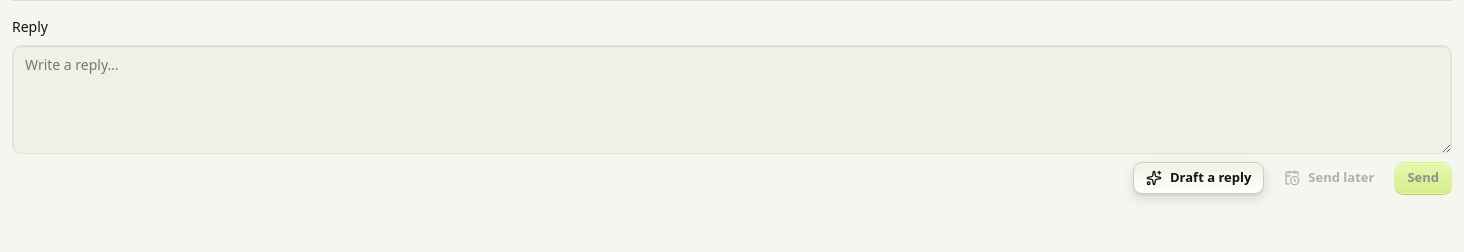
a generic failure shows the fallback message
Type "hello there" into the text box labelled "Reply". click: (732, 100)
box: [12, 45, 1452, 154]
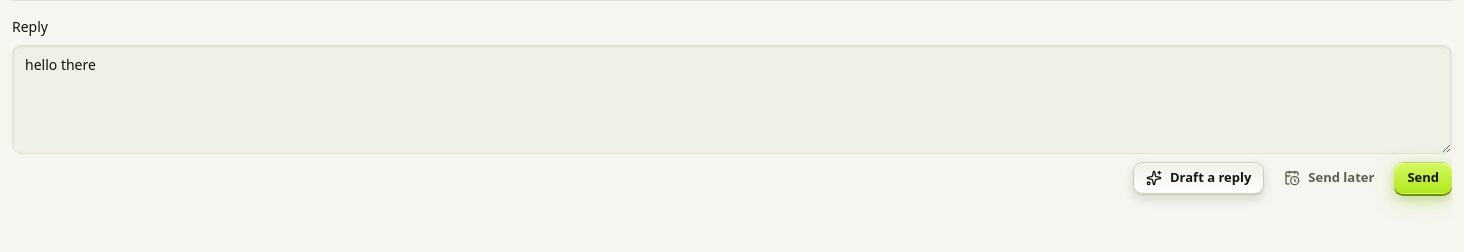
Click the button "Send". click: (1423, 178)
box: [1394, 162, 1452, 194]
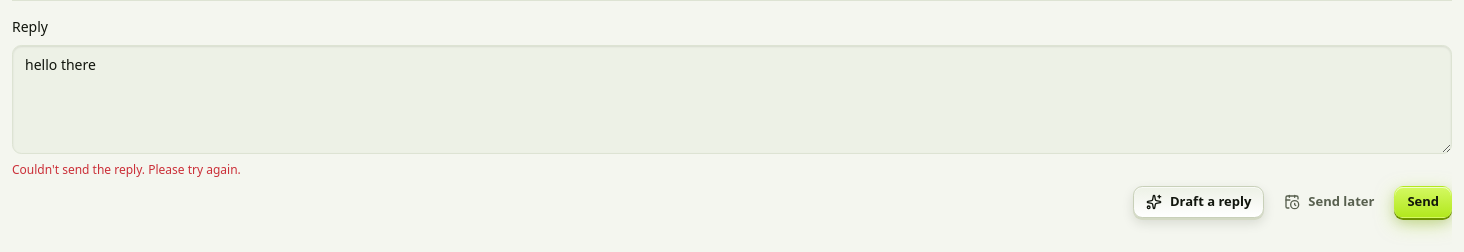
Expected: the message shows "Couldn't send the reply", [12, 161, 241, 178]
